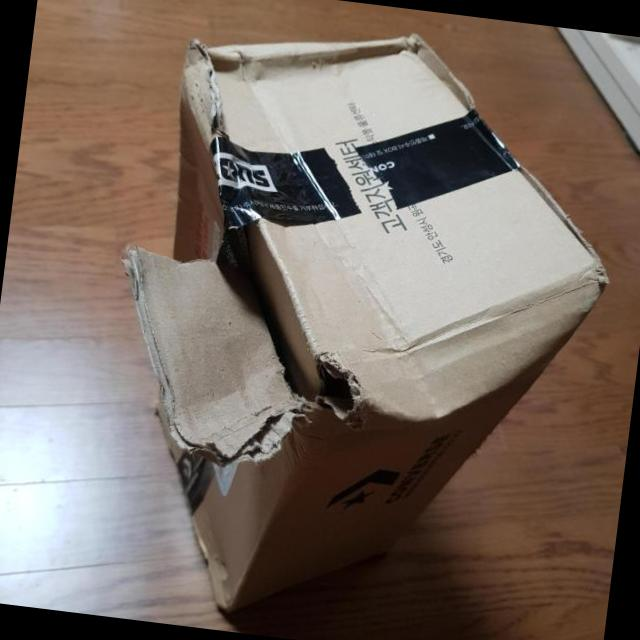box: (77, 163, 548, 537)
